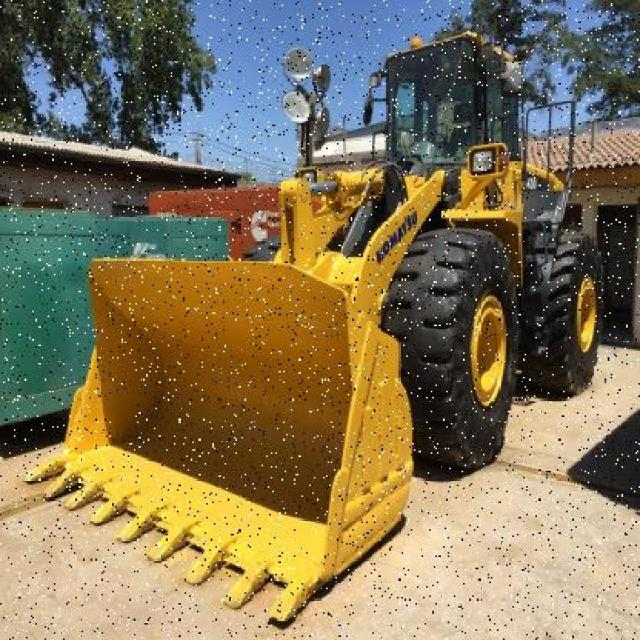buldozerpayloadergrader: (16, 30, 604, 633)
